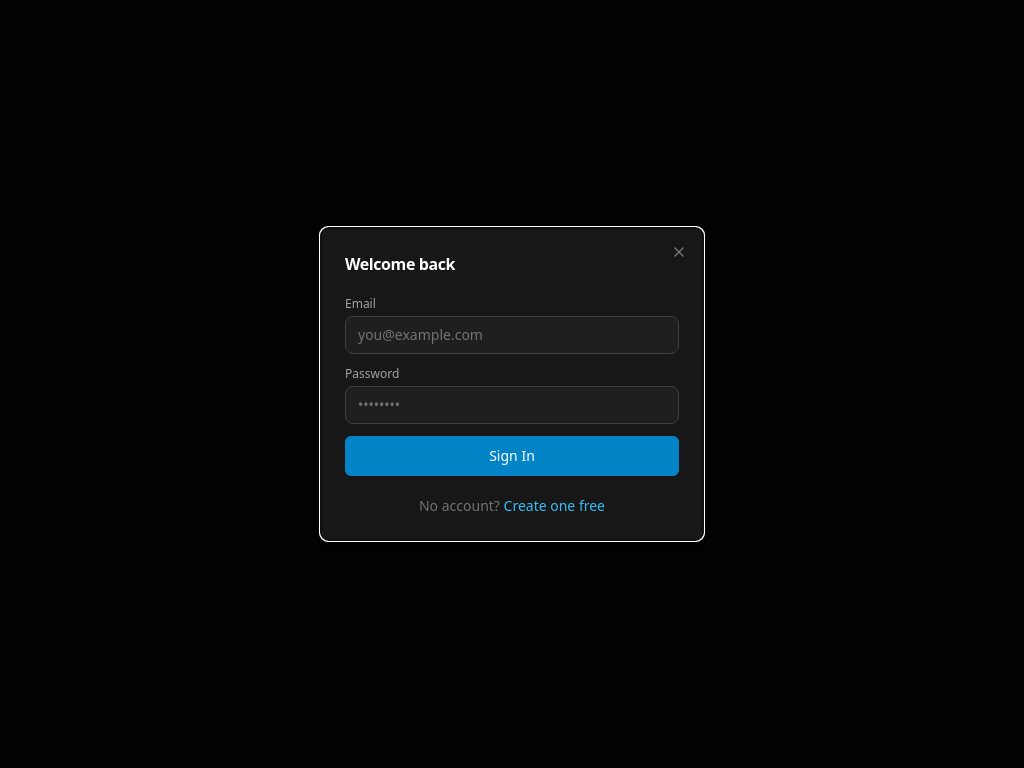
Test: AuthModal › login form › shows validation error for invalid email
The image size is (1024, 768).
Type "not-an-email" into the field labelled "Email" at coordinates (512, 335), box [345,316,679,354]
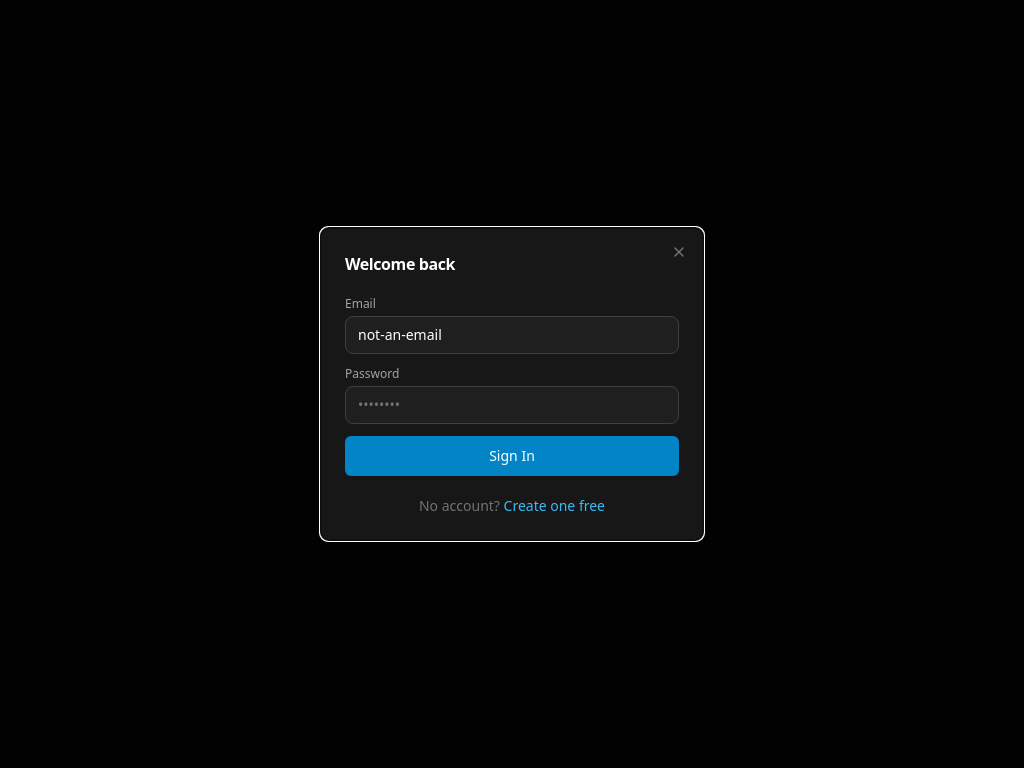
Type "password123" into the password field labelled "Password" at coordinates (512, 405), box [345,386,679,424]
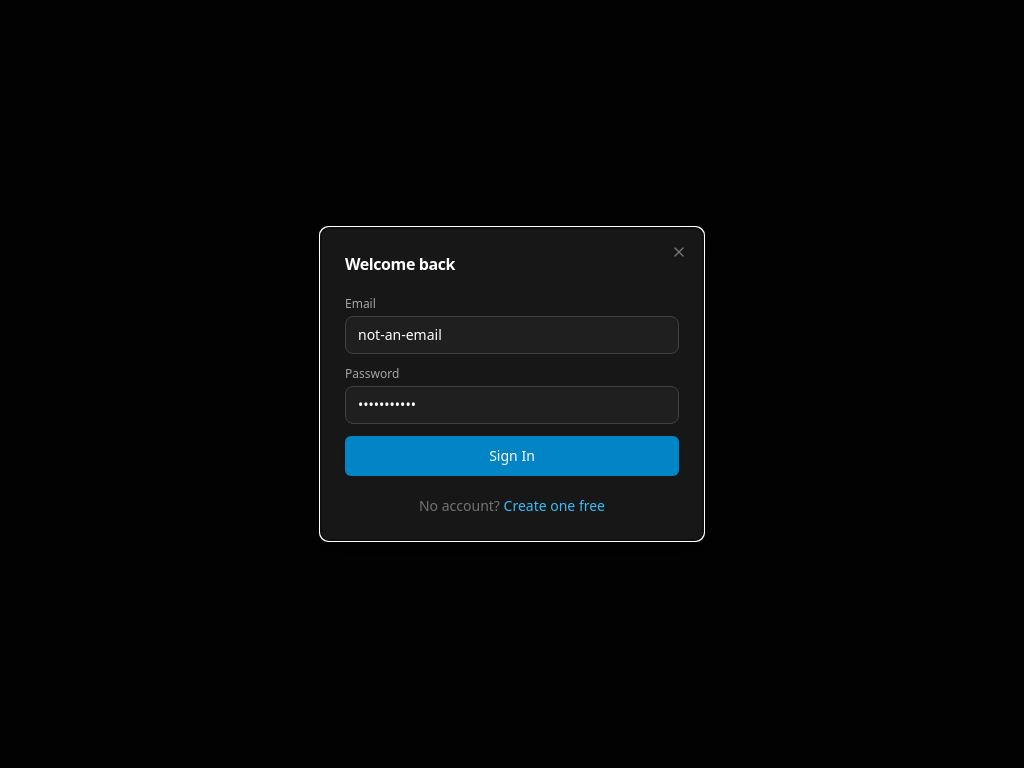
Click the button "Sign In" at coordinates (512, 456), box [345,436,679,476]
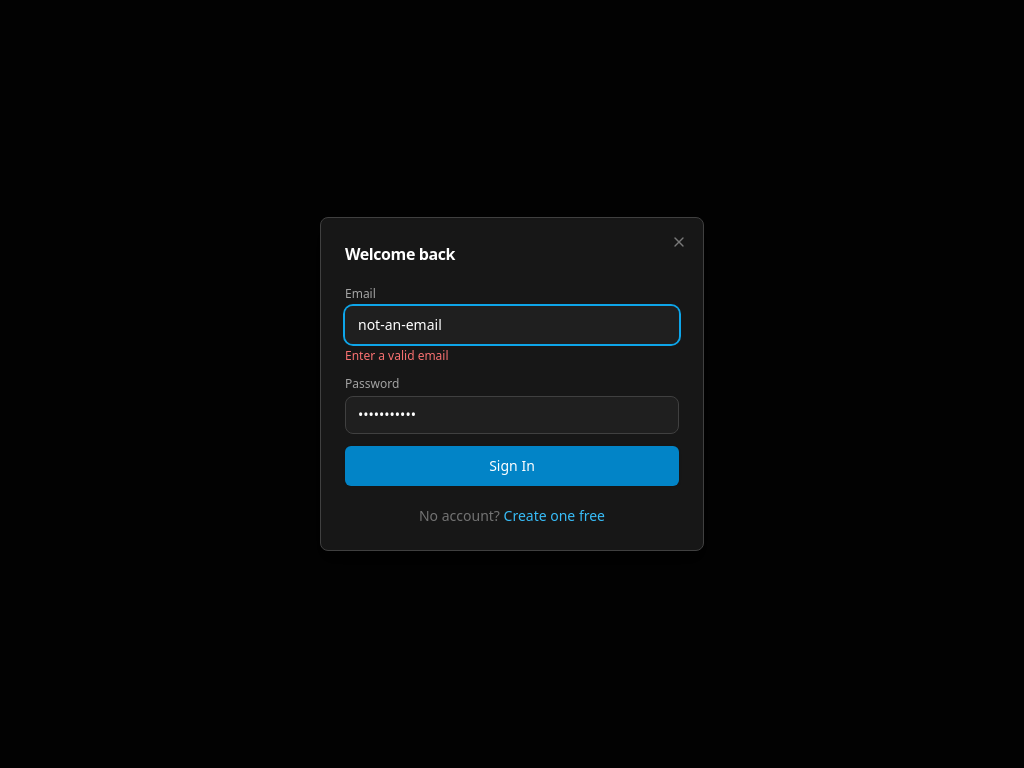
Check: the text "Enter a valid email" is shown, box [345,347,449,364]
